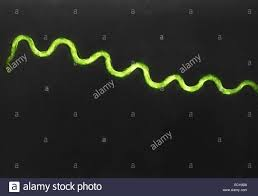sphyillis: (6, 33, 258, 94)
